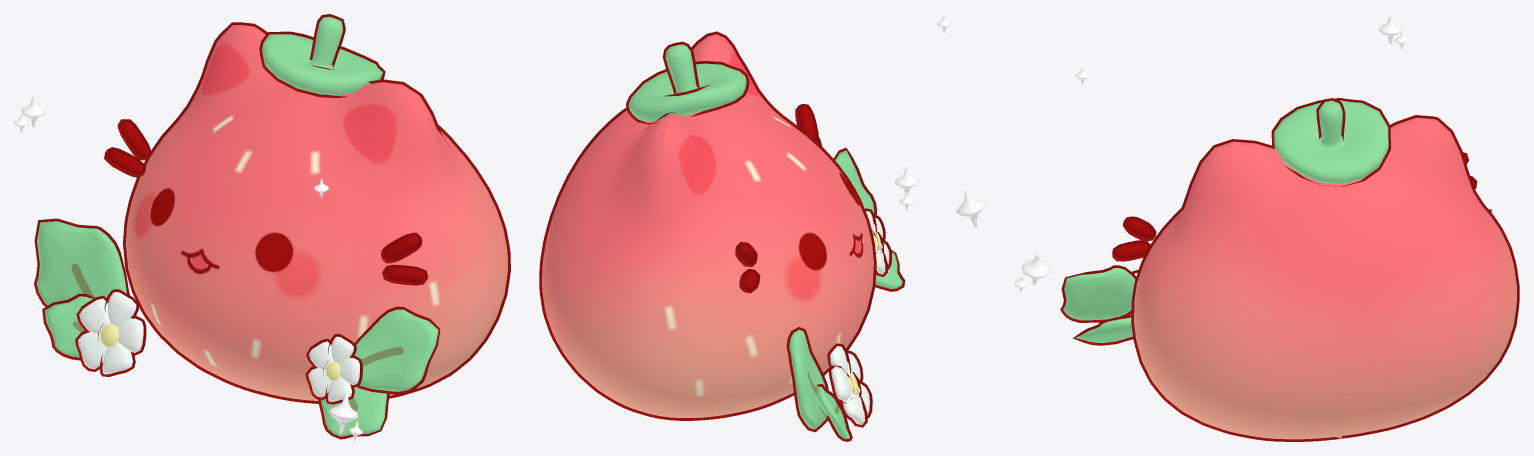
The model's file is strayberry_cat.glb.
3 views of the same model, side by side, from view 1: azimuth 30°, elevation 25°; view 2: azimuth 150°, elevation 25°; view 3: azimuth 270°, elevation 25° (orthographic). The views are drawn at different scales.
Visible parts, largest first — view 1: Strayberry_Cat, Sparks; view 2: Strayberry_Cat, Sparks; view 3: Strayberry_Cat, Sparks.
Boxes of the visible parts, x1=… form: Strayberry_Cat: x1=34, y1=14, x2=510, y2=439; Sparks: x1=14, y1=95, x2=362, y2=441; Strayberry_Cat: x1=539, y1=31, x2=905, y2=441; Sparks: x1=895, y1=14, x2=985, y2=227; Strayberry_Cat: x1=1060, y1=98, x2=1519, y2=441; Sparks: x1=1014, y1=14, x2=1408, y2=291.
Size of the model in its own units: 1.38 by 1.14 by 1.57.
3 materials, 1 textured.
